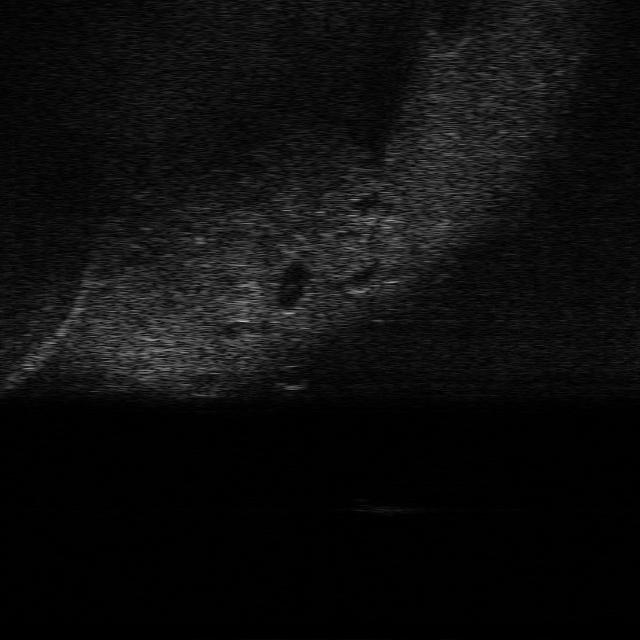ball: (269, 364, 311, 392)
cube: (354, 498, 424, 516)
